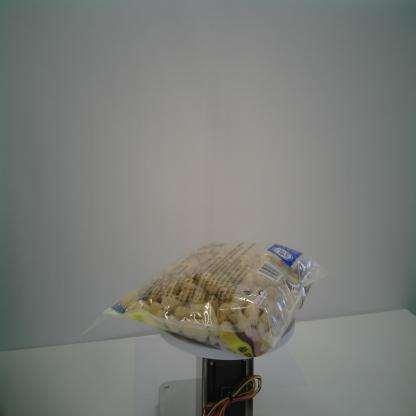Dried Food: (75, 238, 330, 359)
